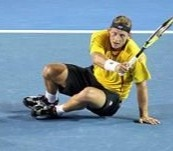falling: (23, 8, 163, 124)
